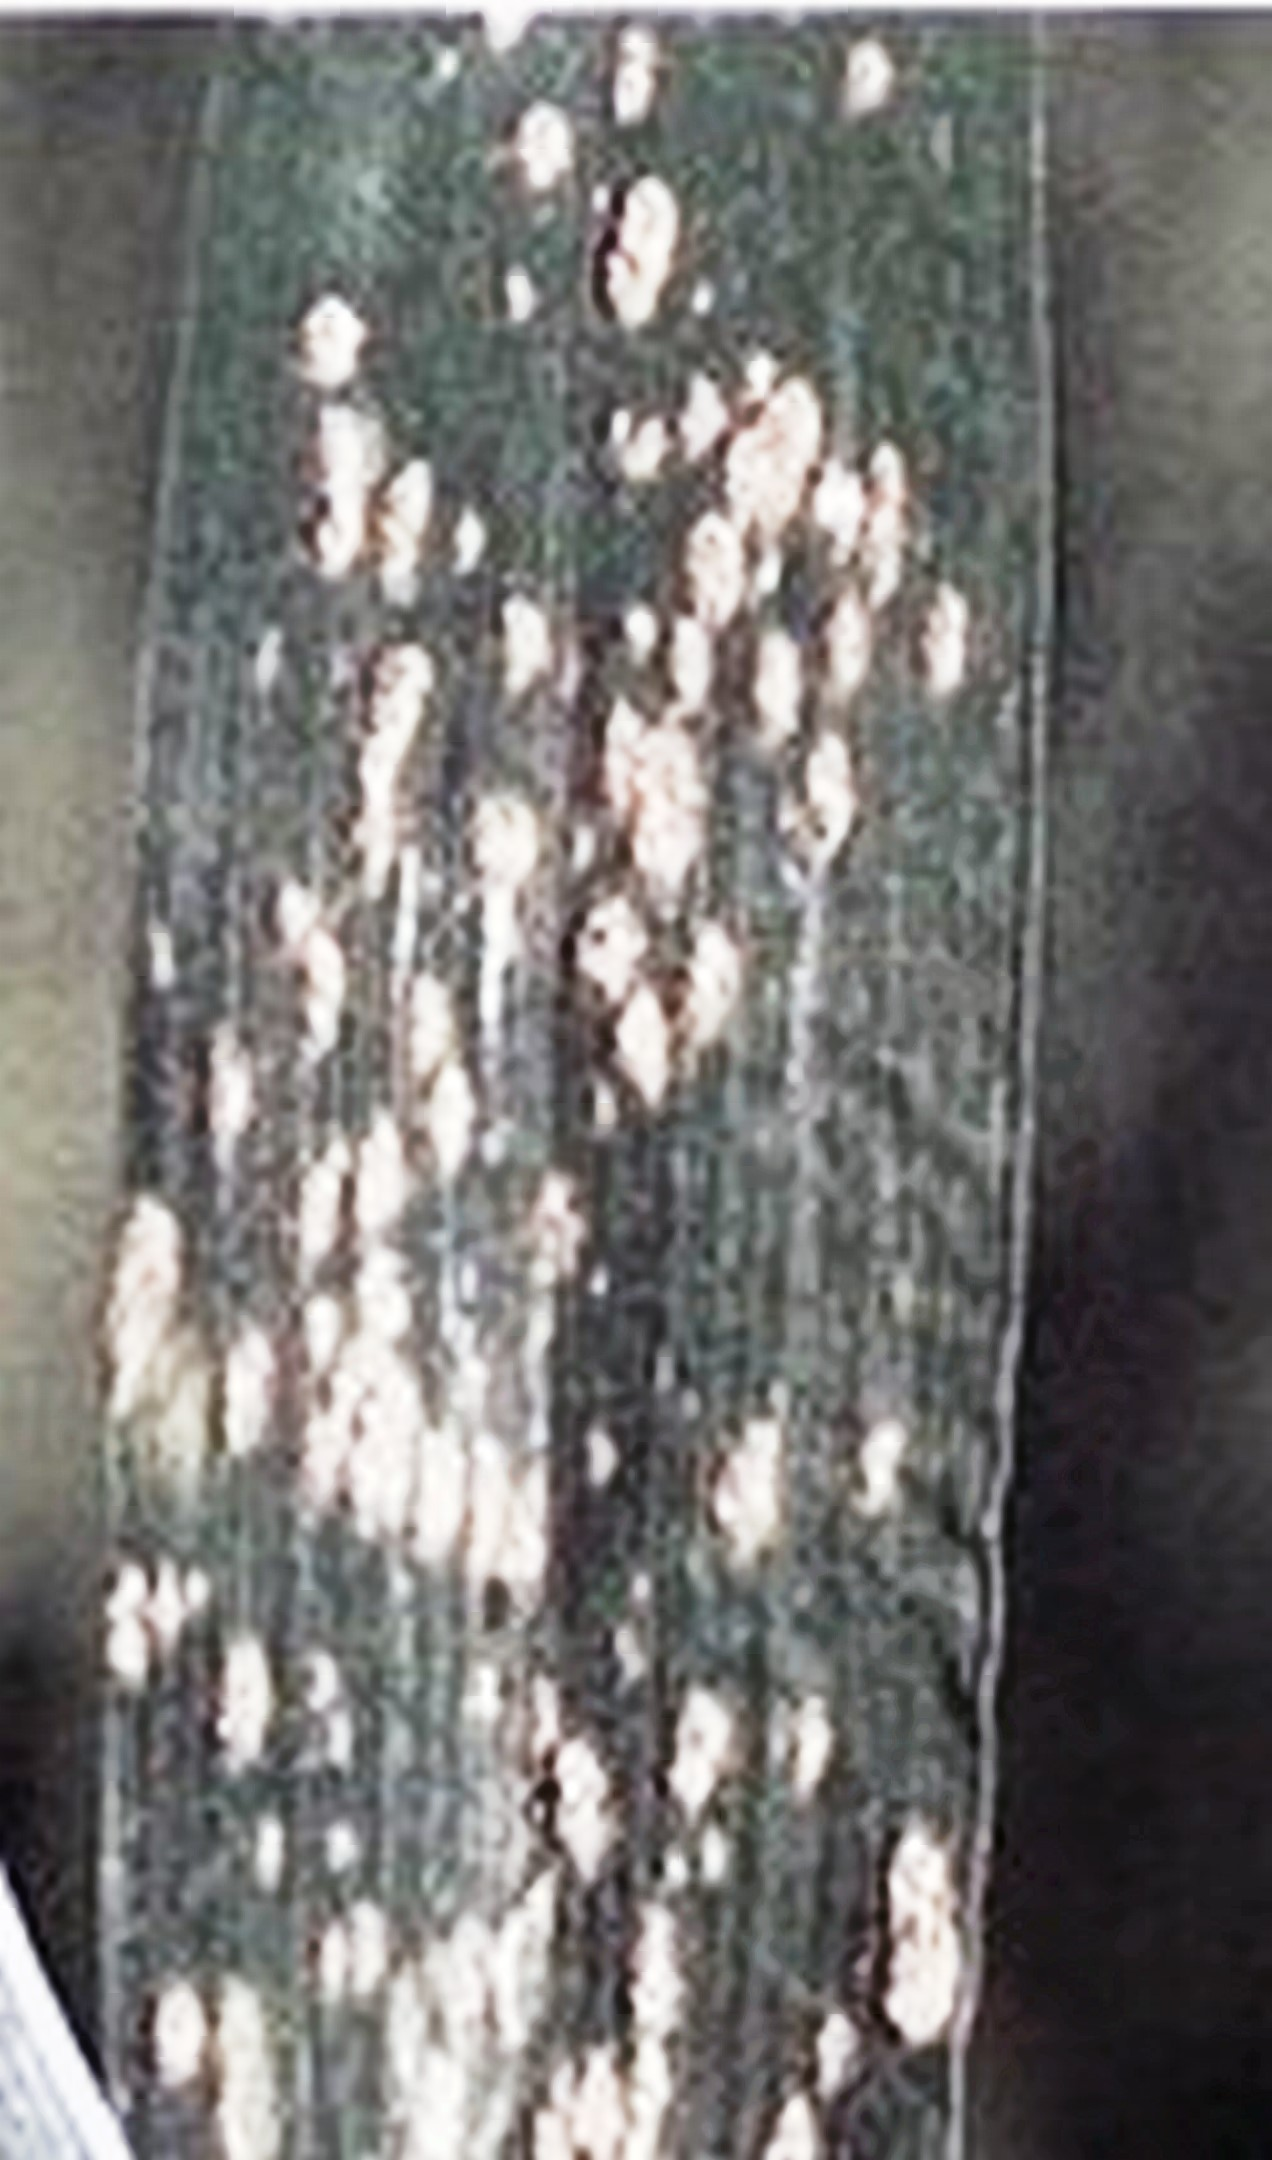Powdery Mildew: (92, 204, 1042, 1975)
